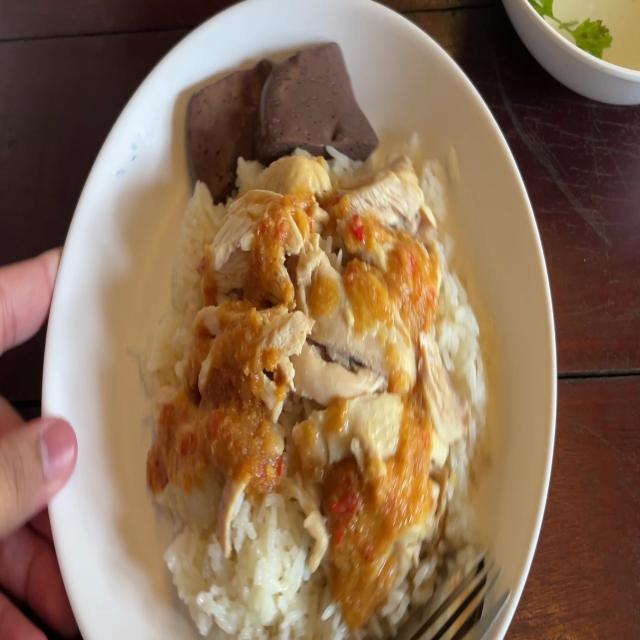boiled_chicken: (154, 197, 422, 580)
boiled_chicken_blood_jelly: (262, 43, 373, 164), (189, 60, 273, 182)
chicken_rice: (138, 39, 476, 640)
